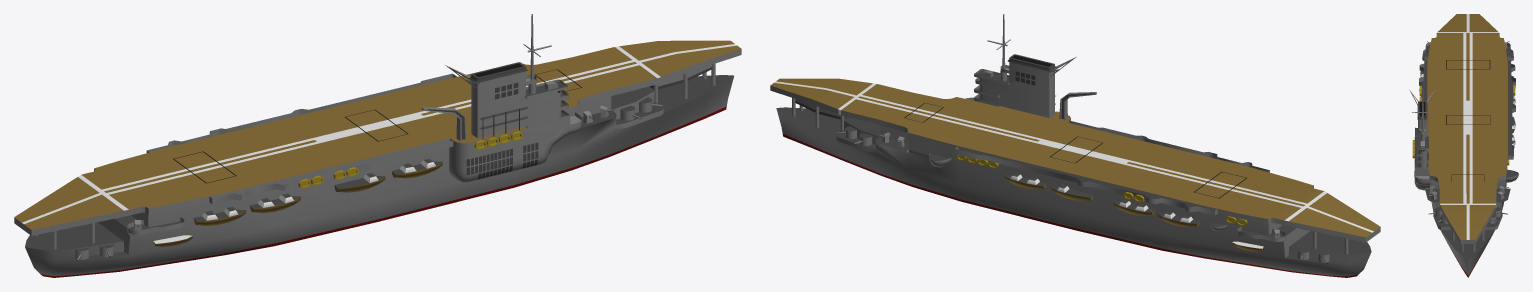
Rendered from carrier.glb.
3 views of the same model, side by side, from view 1: azimuth 30°, elevation 25°; view 2: azimuth 150°, elevation 25°; view 3: azimuth 270°, elevation 25° (orthographic). The views are drawn at different scales.
Parts seen in each view (by area): view 1: Hull, Flight_Deck, Island; view 2: Flight_Deck, Hull, Island; view 3: Flight_Deck, Hull, Island.
Boxes of the visible parts, <box> form: Hull: <box>25,63,733,277</box>; Flight_Deck: <box>14,40,741,235</box>; Island: <box>445,14,569,138</box>; Flight_Deck: <box>770,78,1380,242</box>; Hull: <box>776,92,1371,277</box>; Island: <box>974,14,1076,117</box>; Flight_Deck: <box>1419,14,1515,243</box>; Hull: <box>1412,42,1518,277</box>; Island: <box>1409,88,1435,169</box>.
Size of the model in its own units: 183 by 43.23 by 37.03.
